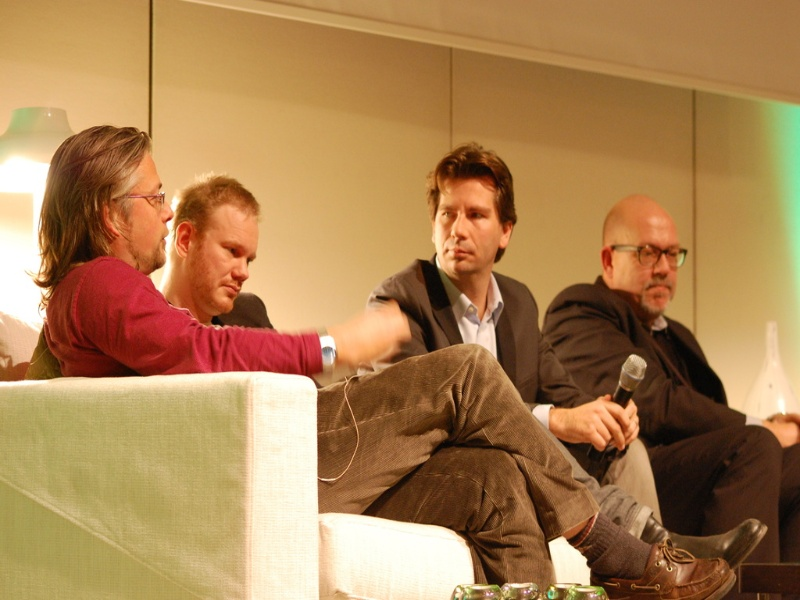couch: (3, 379, 441, 600)
person: (39, 122, 396, 391), (556, 192, 793, 561), (381, 124, 573, 380)
